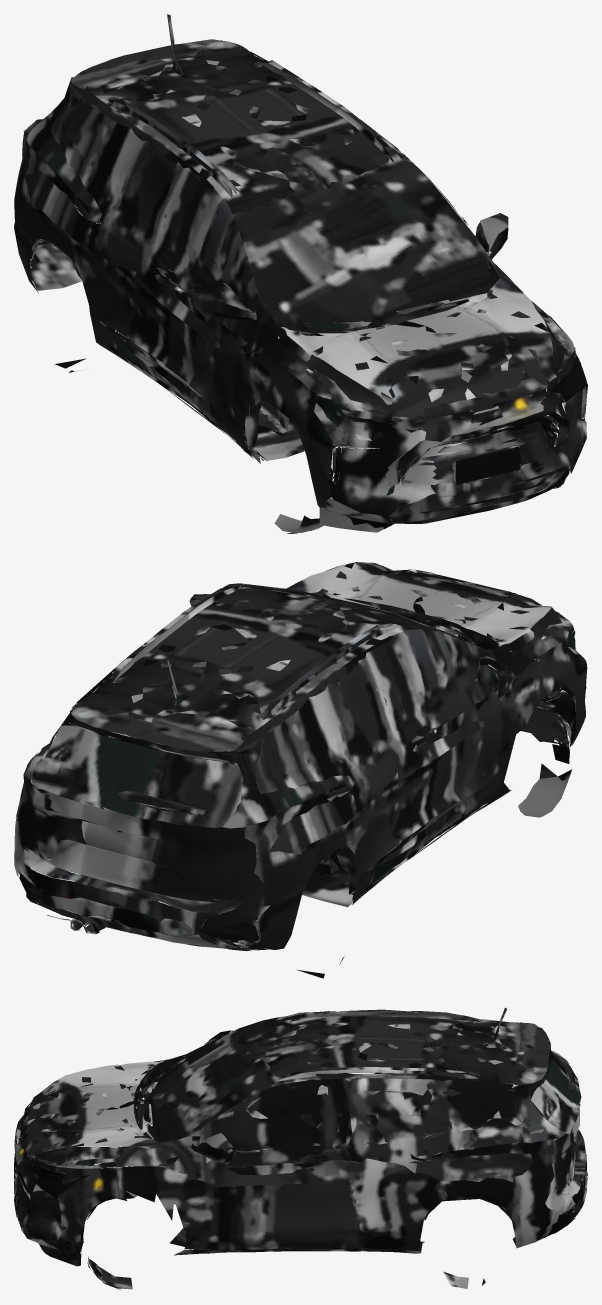
The model's file is vehiculo1_body.gltf.
3 renders of one model, top to bottom at view 1: azimuth 30°, elevation 25°; view 2: azimuth 150°, elevation 25°; view 3: azimuth 270°, elevation 25°, orthographic. The views are drawn at different scales.
Visible parts, largest first — view 1: vehiculo1_body; view 2: vehiculo1_body; view 3: vehiculo1_body.
Part boxes in pixels (x1=…): vehiculo1_body: x1=14, y1=14, x2=587, y2=533; vehiculo1_body: x1=14, y1=562, x2=587, y2=978; vehiculo1_body: x1=14, y1=1007, x2=587, y2=1290.
Bounding box in the file's own units: 0.4879 × 0.4513 × 1.
1 material, 1 textured.
